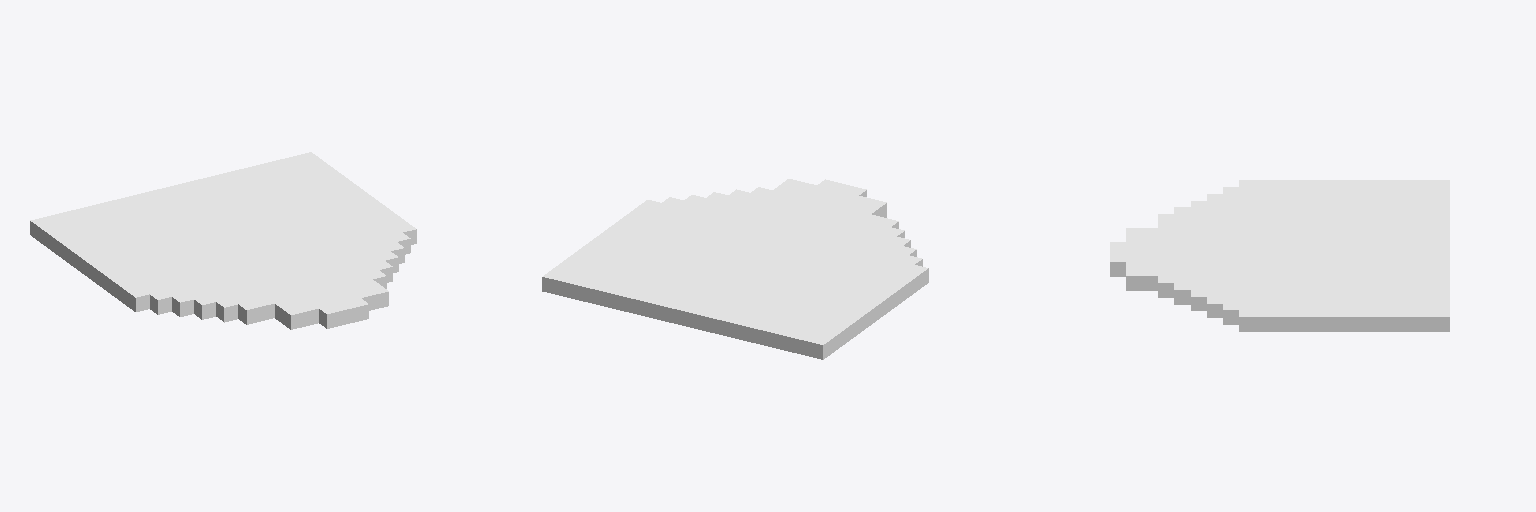
File: flight.obj
3 views of the same model, side by side, from view 1: azimuth 30°, elevation 25°; view 2: azimuth 150°, elevation 25°; view 3: azimuth 270°, elevation 25° (orthographic).
Parts seen in each view (by area): view 1: object 1; view 2: object 1; view 3: object 1.
Boxes of the visible parts, x1=… form: object 1: x1=30, y1=152, x2=416, y2=329; object 1: x1=542, y1=179, x2=928, y2=359; object 1: x1=1110, y1=180, x2=1449, y2=331.
Size of the model in its own units: 2 by 0.1 by 2.1.